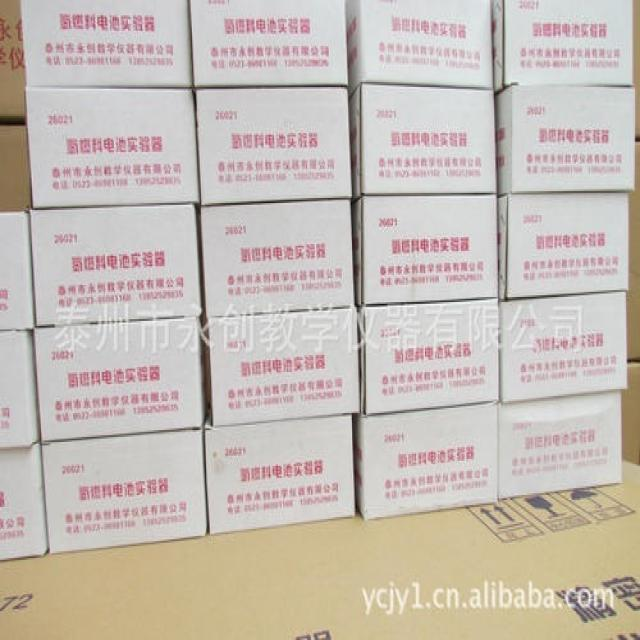box: (40, 428, 209, 555), (36, 316, 204, 442), (29, 203, 201, 326), (26, 89, 200, 208), (207, 305, 361, 427), (204, 415, 357, 536), (200, 200, 356, 317), (196, 89, 353, 205), (348, 84, 498, 200), (352, 404, 499, 521), (357, 299, 499, 416), (352, 195, 498, 305), (494, 85, 635, 195), (19, 0, 191, 85), (499, 292, 628, 404), (346, 0, 493, 97), (189, 0, 349, 87), (498, 193, 628, 300), (497, 393, 622, 500), (492, 0, 632, 94), (0, 444, 49, 561), (0, 331, 40, 449), (0, 212, 36, 329)
